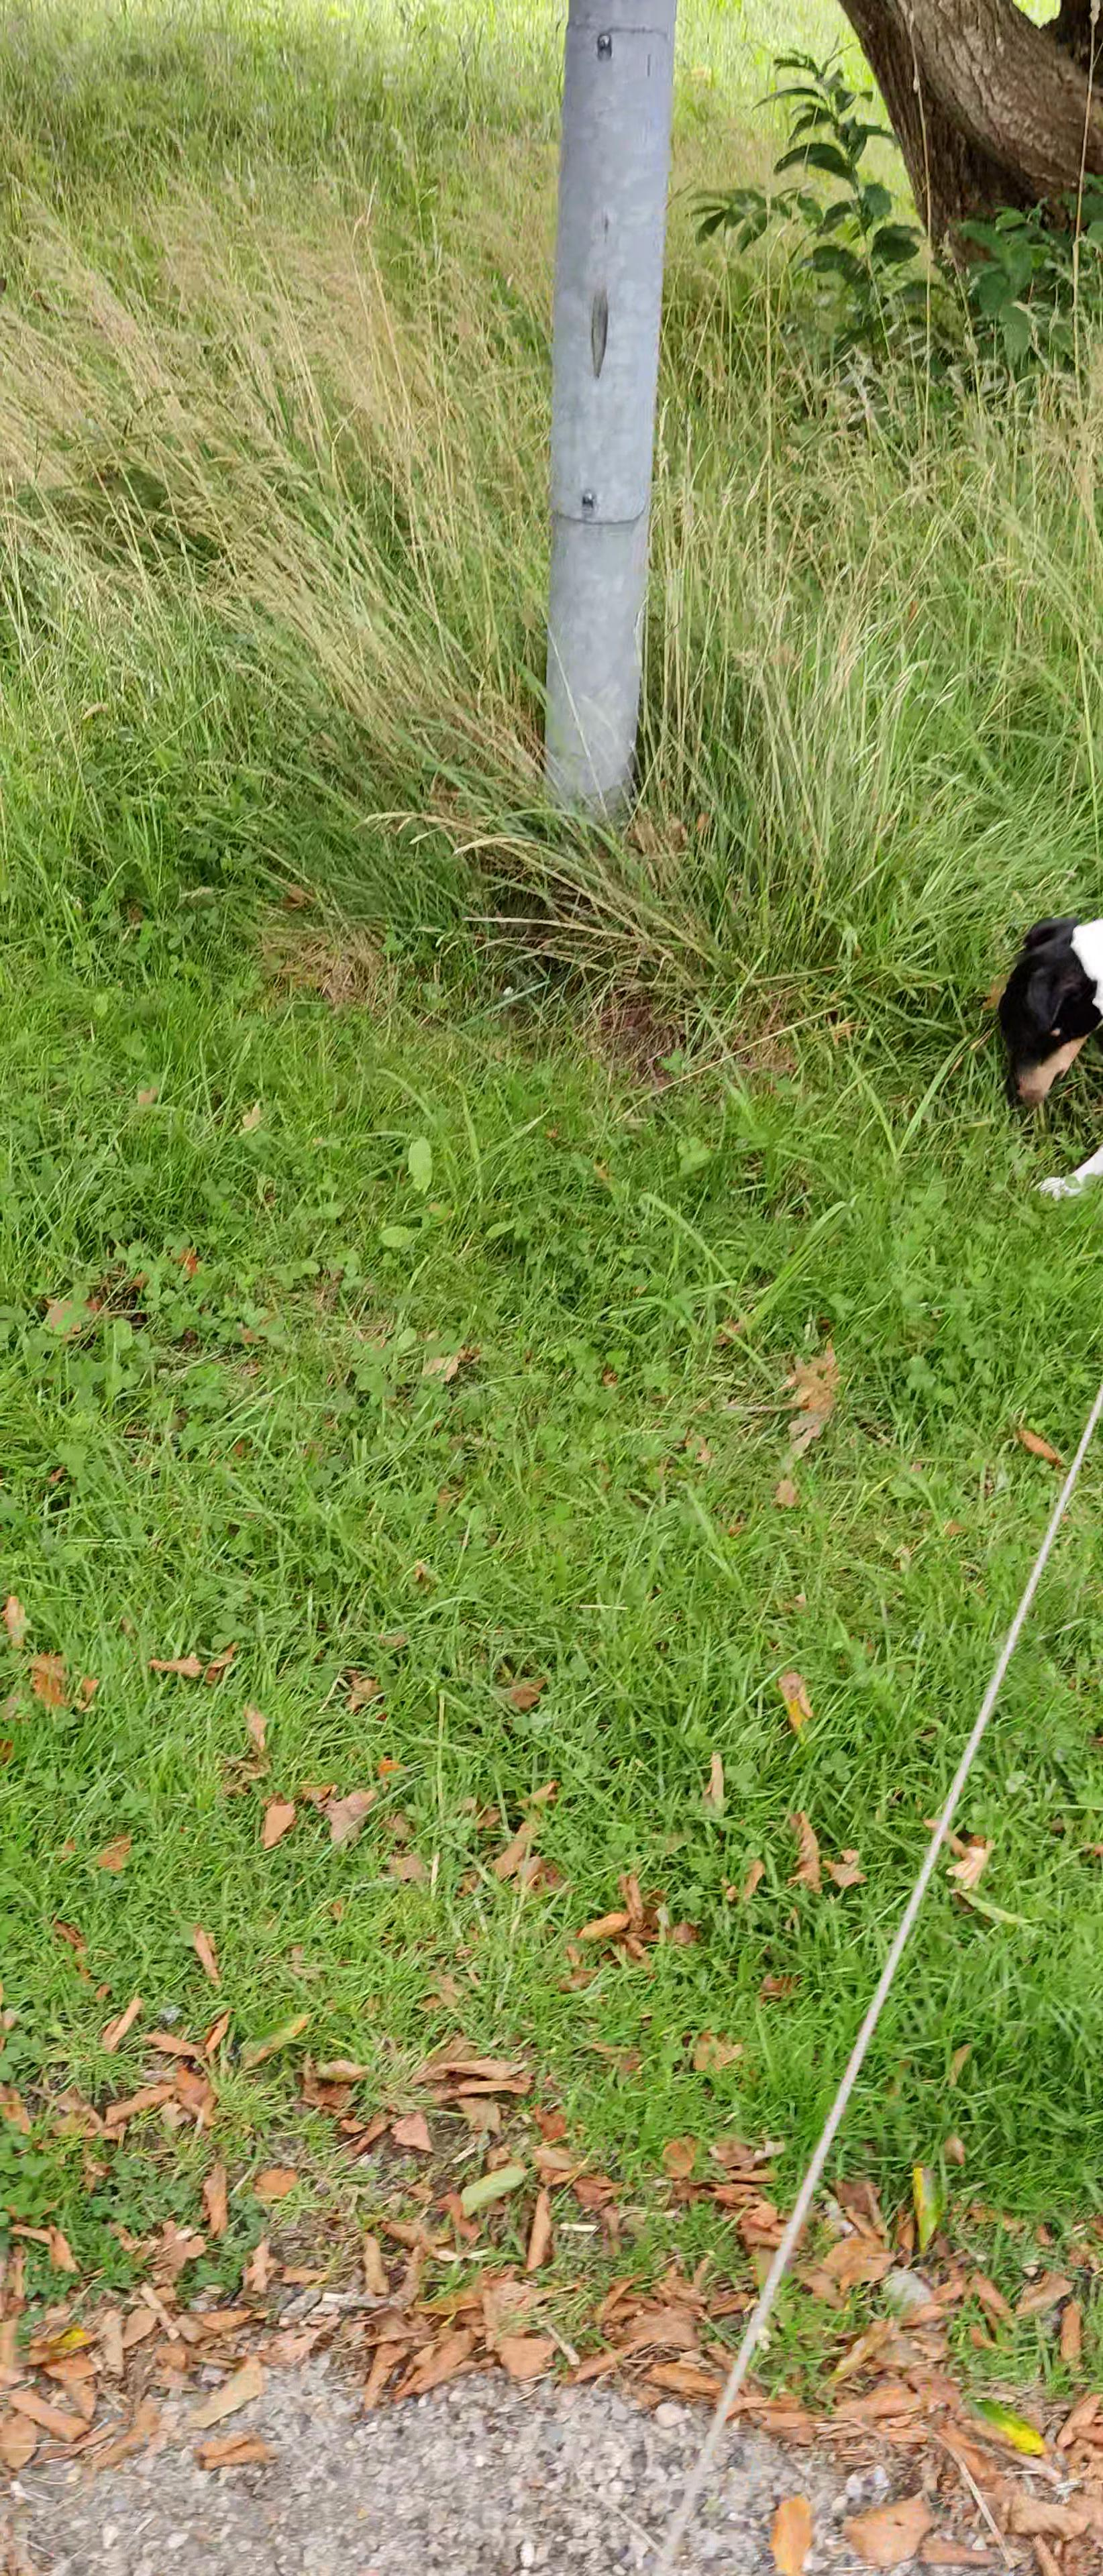Dog: (991, 899, 1103, 1204)
